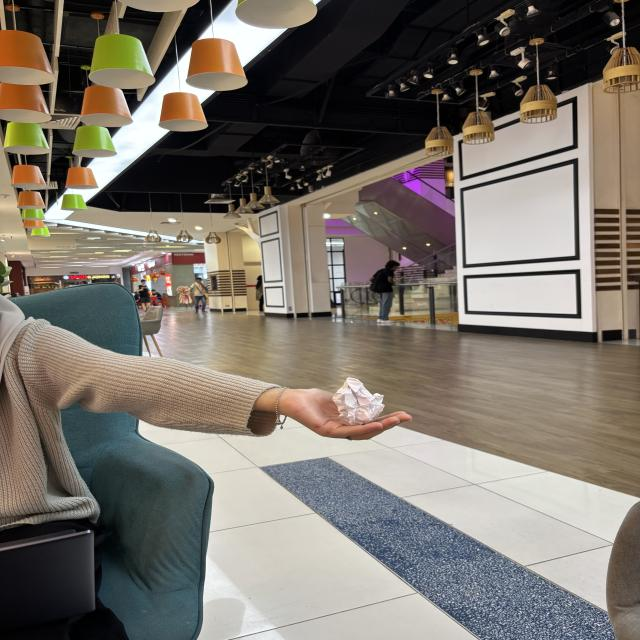crumpled_paper: (334, 376, 386, 426), (328, 373, 332, 378)
